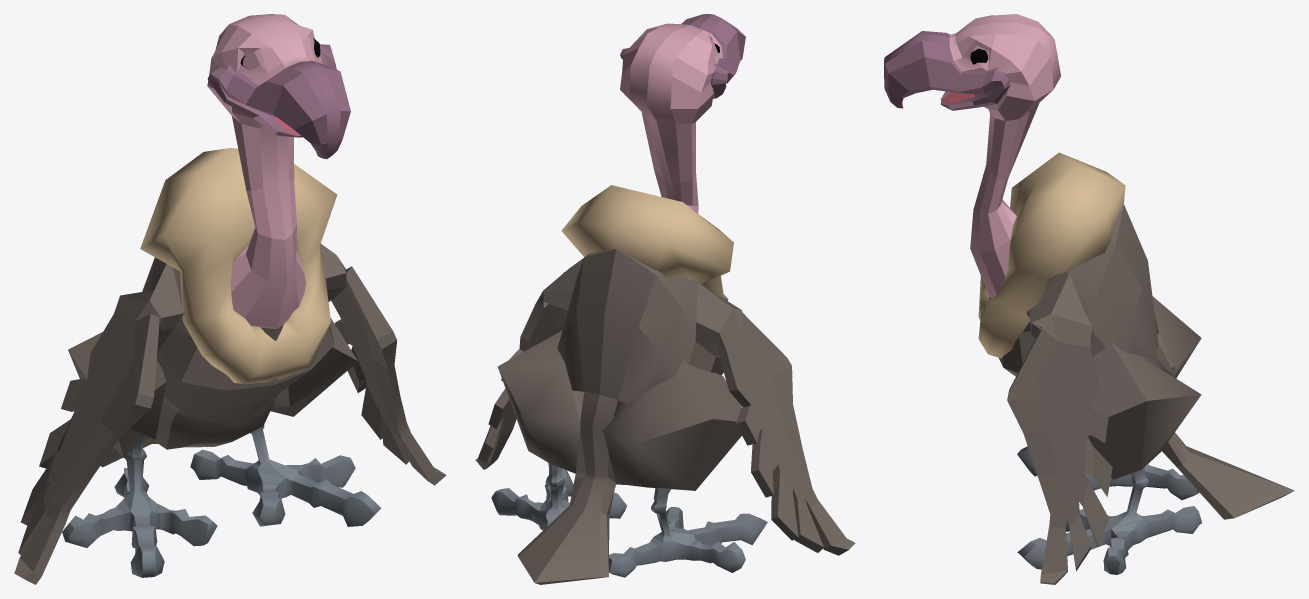
File: BUITRE.fbx
3 views of the same model, side by side, from view 1: azimuth 30°, elevation 25°; view 2: azimuth 150°, elevation 25°; view 3: azimuth 270°, elevation 25° (orthographic). The views are drawn at different scales.
Visible parts, largest first — view 1: Body, torso, Legs; view 2: Body, torso, Legs; view 3: Body, torso, Legs.
Boxes of the visible parts, x1,y1,x2,y2 form: Body: [14, 14, 446, 584]; torso: [140, 148, 337, 384]; Legs: [62, 425, 381, 577]; Body: [475, 14, 855, 584]; torso: [561, 185, 733, 300]; Legs: [491, 463, 767, 577]; Body: [884, 14, 1294, 584]; torso: [978, 152, 1125, 358]; Legs: [1017, 446, 1202, 574].
Bounding box in the file's own units: 327 × 397 × 299.
